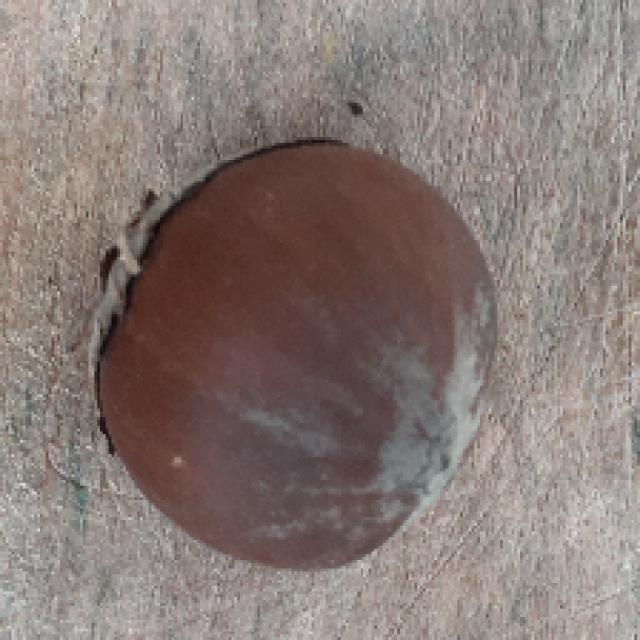damagedHazelnut: (84, 132, 504, 562)
